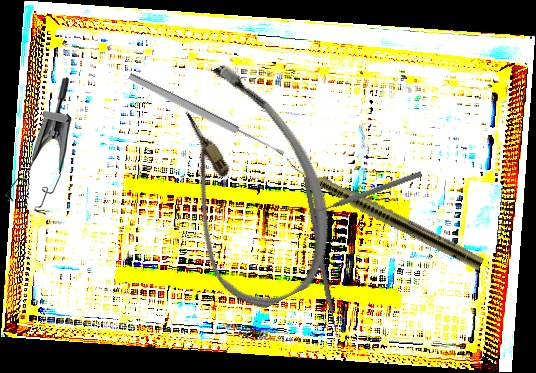Cannula: (132, 48, 361, 323)
Handpiece: (280, 154, 486, 272)
Pusher: (302, 176, 342, 348), (307, 169, 423, 219)
Speculum: (2, 76, 74, 216)
Surgical Spoon: (127, 71, 286, 159)
